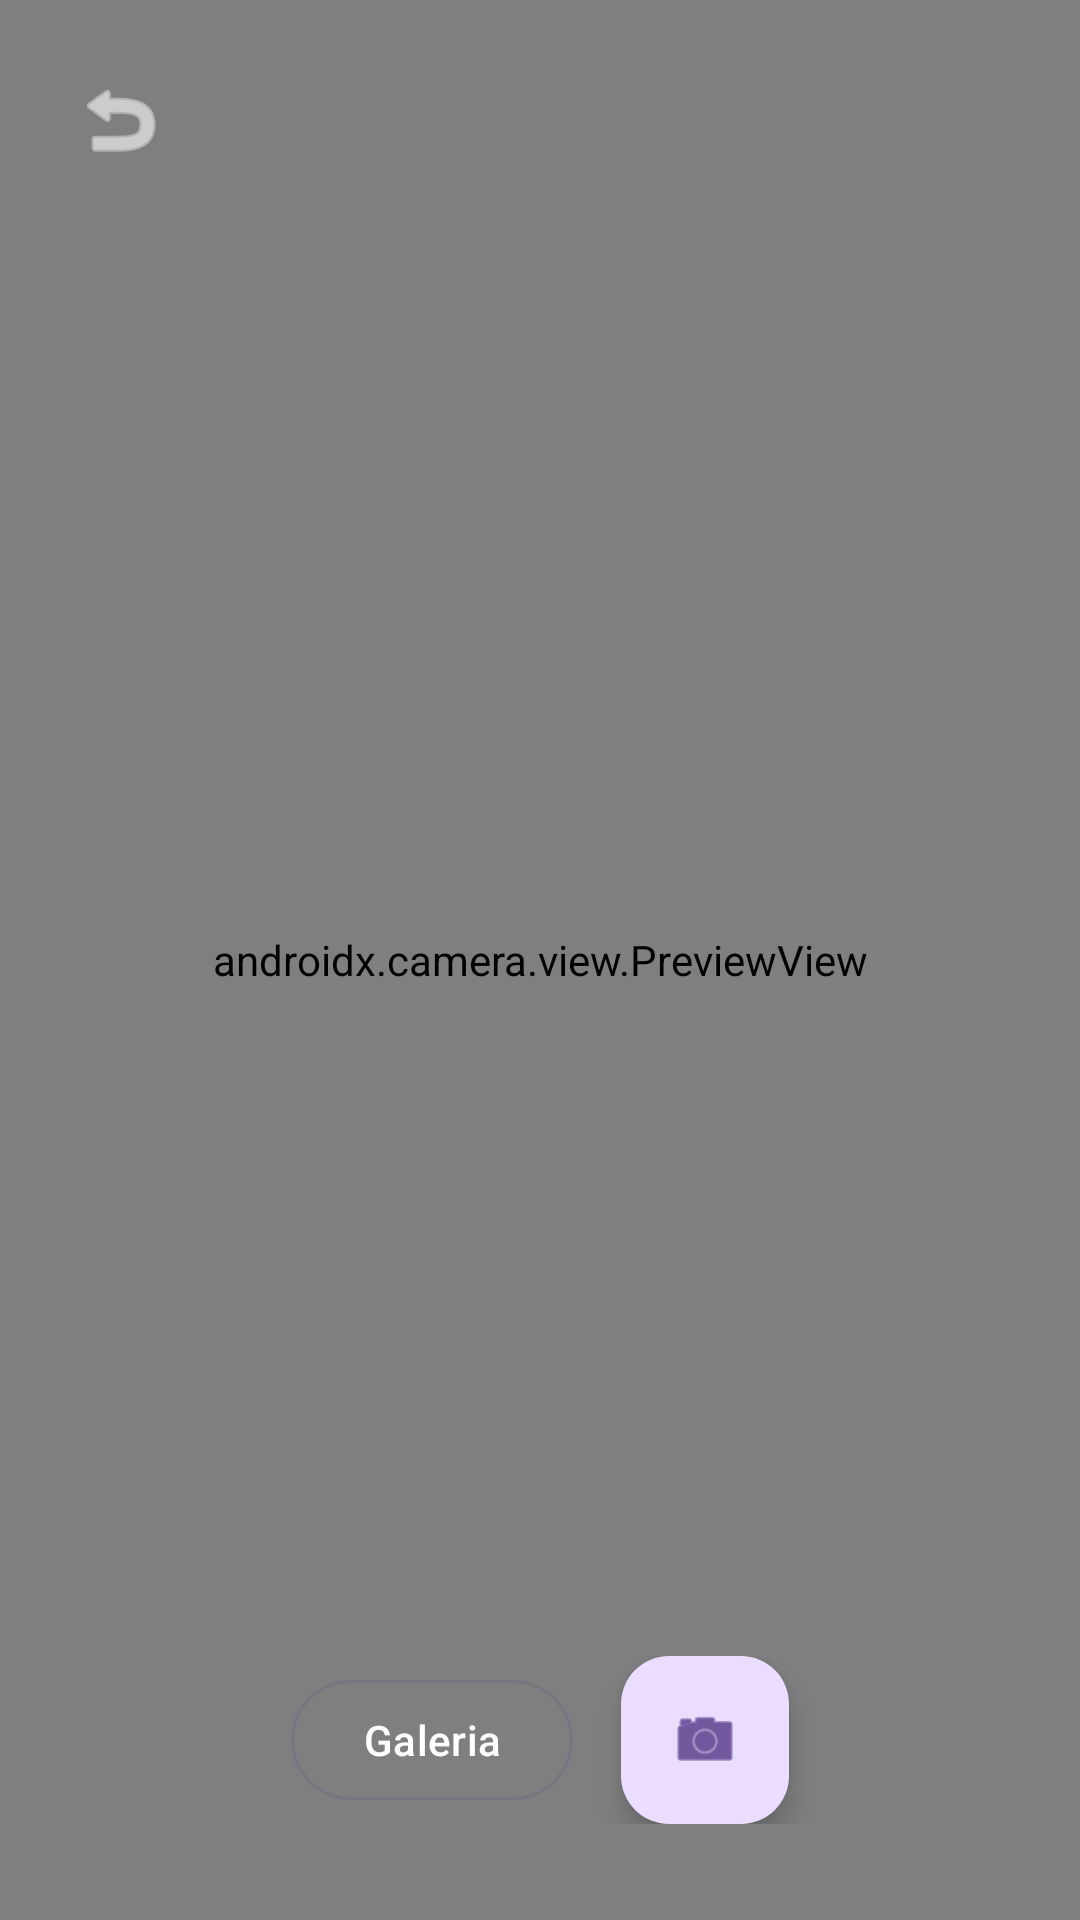

Icons on this 1080w x 1920h Android screen, each with the point to tap as (x,y):
Capturar: (705,1740)
revert: (121,121)
